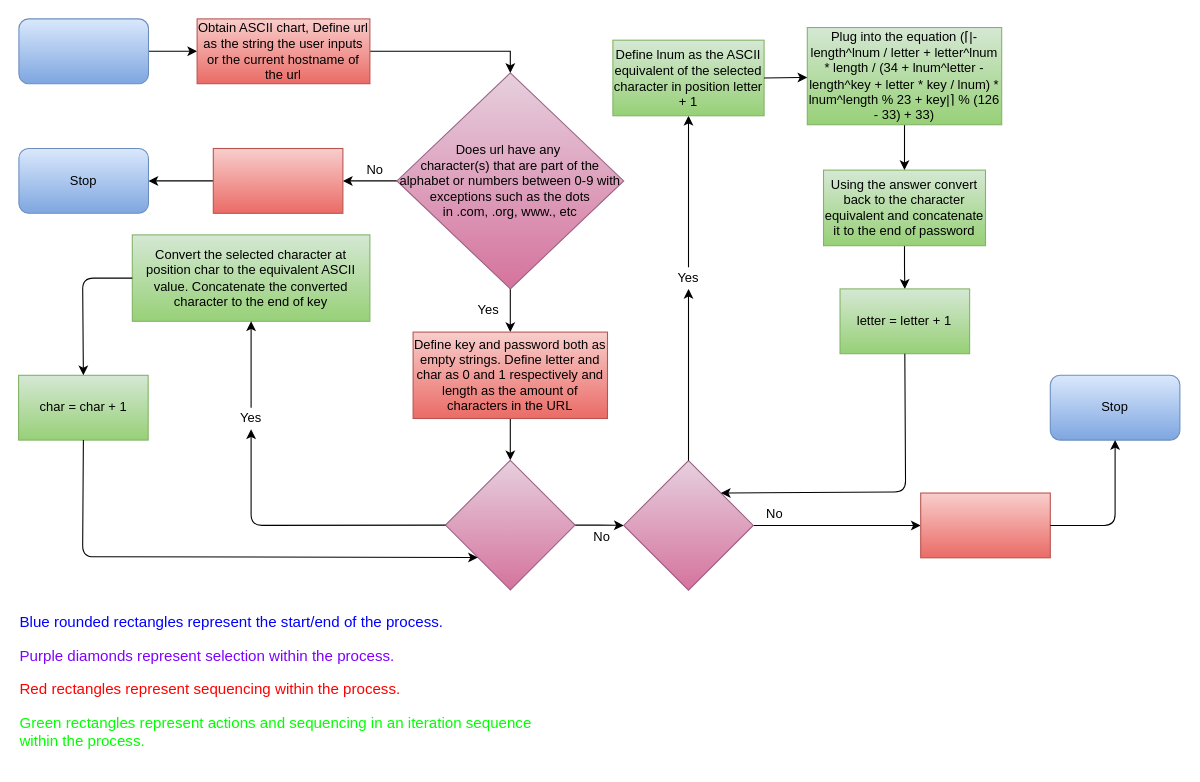
Some shapes in this 1200 by 782 pixel diagram are drawn without their labels. The box of each missing label's shape, as (x1, y1, x2, y2) in pixels:
Display null or undefined: (212, 147, 343, 213)
Display password: (920, 492, 1050, 558)
Is char <= length: (444, 459, 575, 590)
Is letter < length: (623, 460, 753, 590)
Start: (18, 18, 148, 84)
